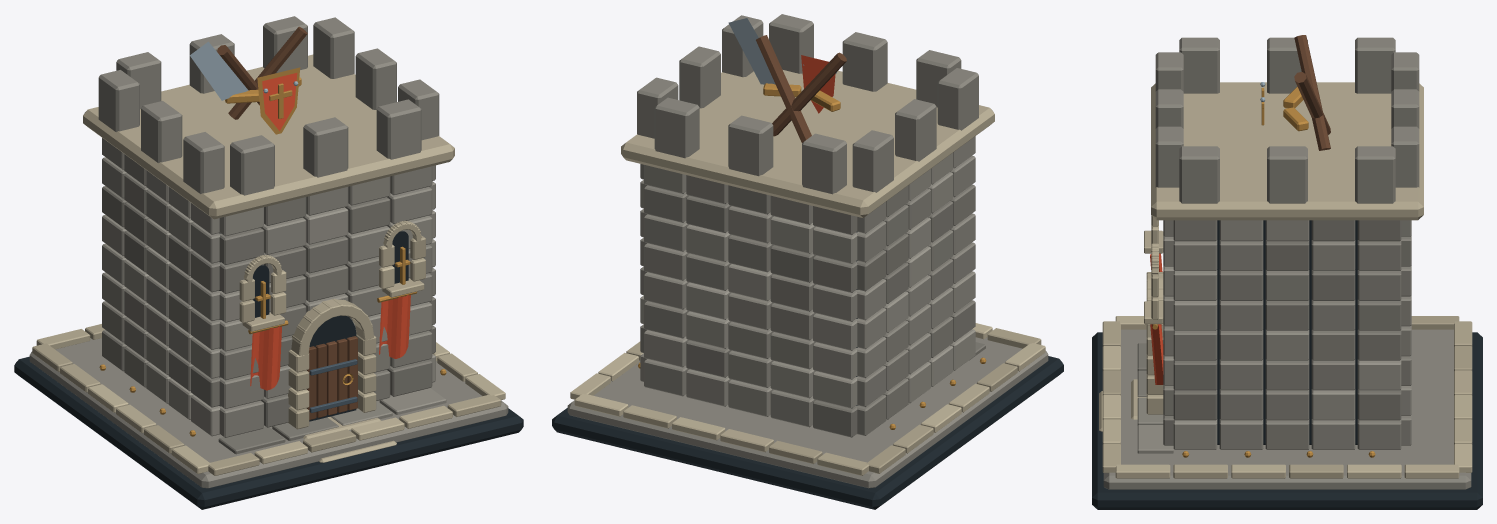
Rendered from militia__guerreiro__L05.glb.
The picture shows the model from 3 angles, left to right: view 1: azimuth 30°, elevation 25°; view 2: azimuth 150°, elevation 25°; view 3: azimuth 270°, elevation 25°; orthographic projection. The views are drawn at different scales.
Visible parts, largest first — view 1: structure, weapon, banners; view 2: structure, weapon; view 3: structure, weapon, banners.
Part boxes in pixels (bbox=[...]): structure: bbox=[14, 16, 523, 509]; weapon: bbox=[190, 26, 307, 134]; banners: bbox=[248, 291, 417, 390]; structure: bbox=[552, 14, 1063, 509]; weapon: bbox=[728, 18, 846, 142]; structure: bbox=[1092, 37, 1482, 509]; weapon: bbox=[1260, 35, 1330, 150]; banners: bbox=[1150, 253, 1163, 384].
Bounding box in the file's own units: 0.803 × 0.8778 × 0.803.
